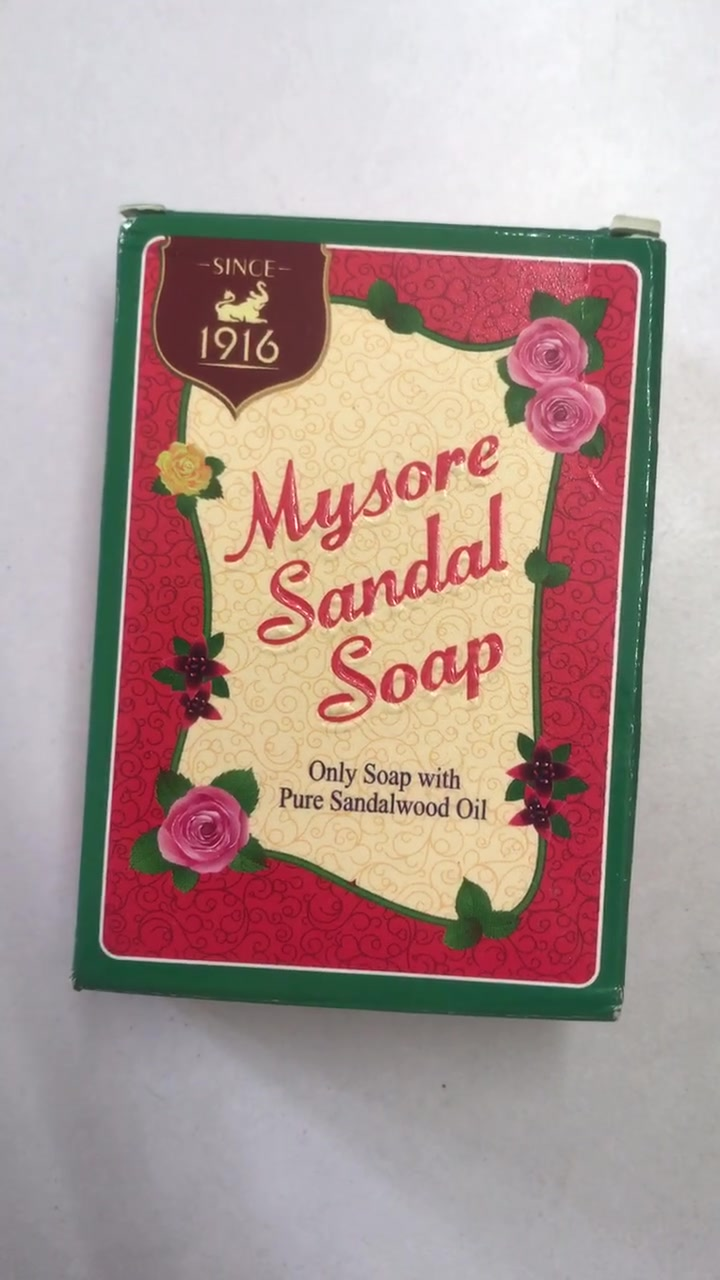mysore sandal soap: (73, 210, 646, 1023)
